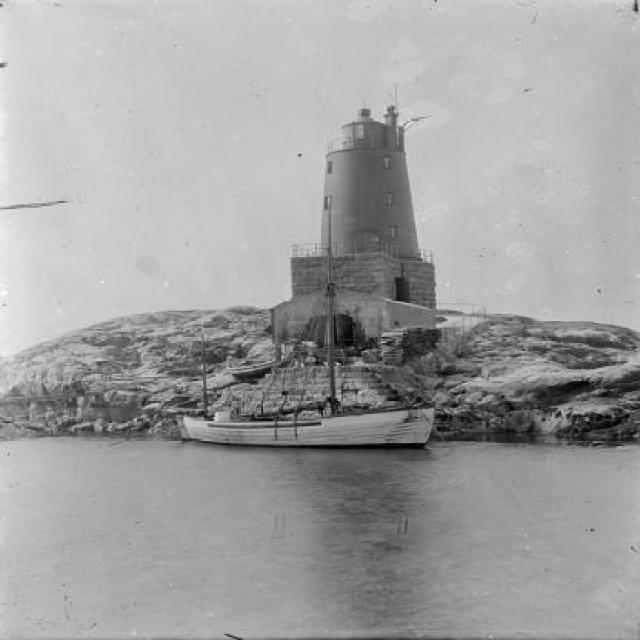ship: (182, 287, 442, 447)
